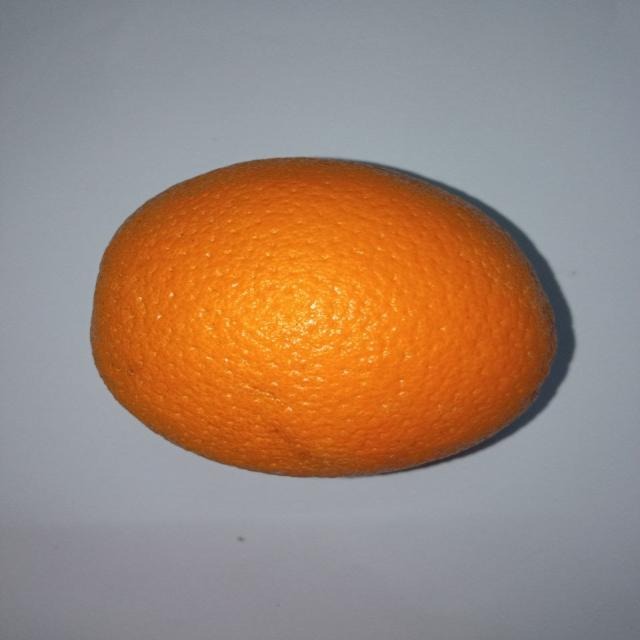fresh_orange: (89, 157, 557, 477)
